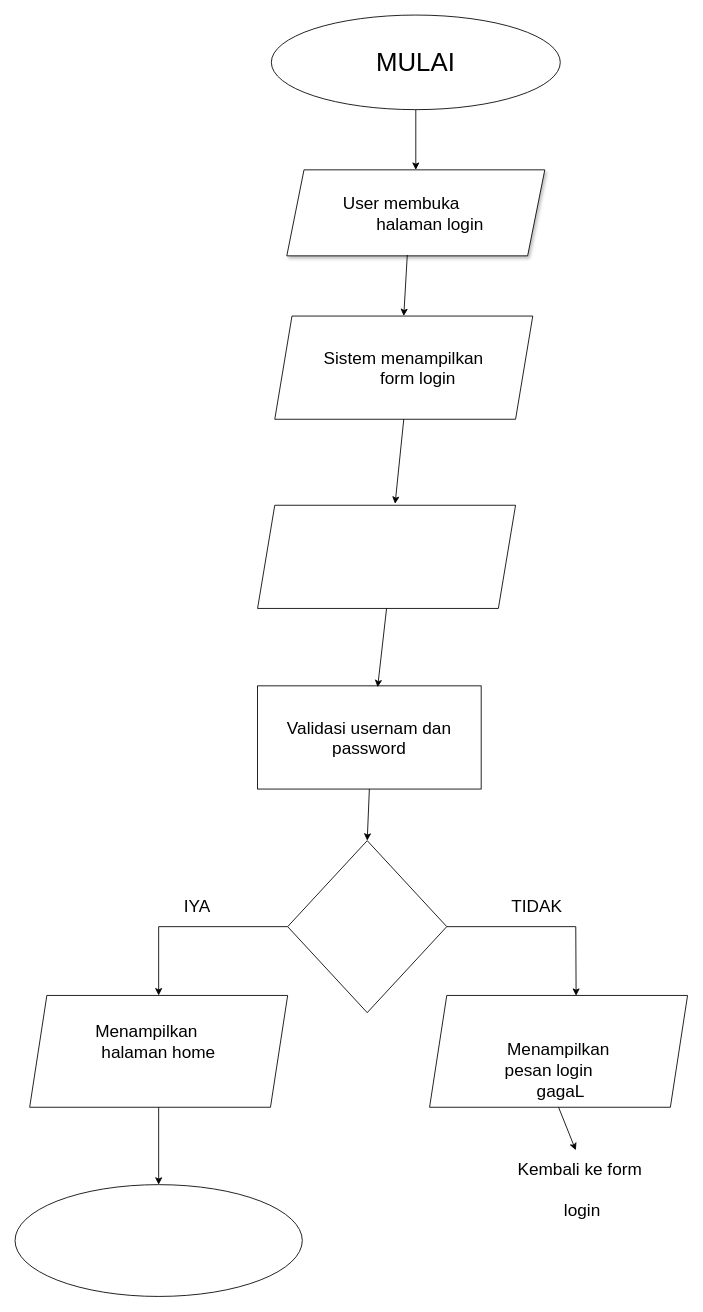
The diagram is 703 pixels wide and 1312 high, and some of its shapes have lost their labels. Each missing label, with the centre of its shape:
Input username dan password: point (386, 556)
Login berhasil?: point (367, 926)
SELESAI: point (158, 1240)
